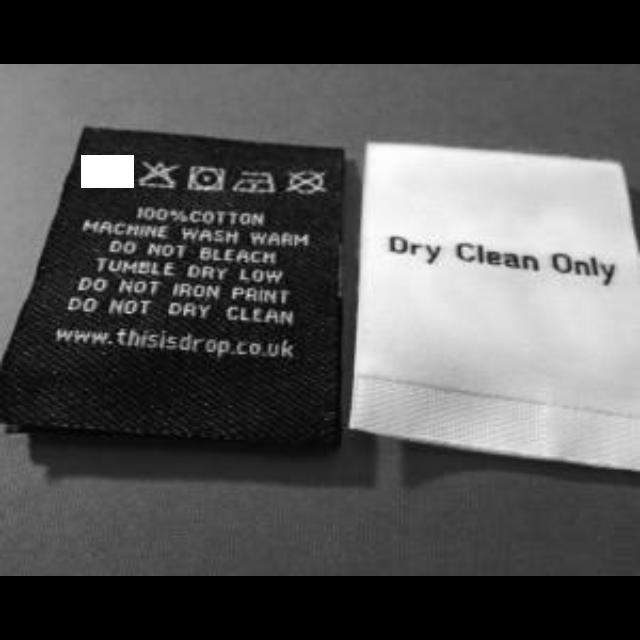DN_bleach: (137, 157, 183, 191)
DN_dry_clean: (282, 167, 330, 200)
iron_low: (230, 168, 278, 196)
tumble_dry_low: (186, 163, 228, 193)
